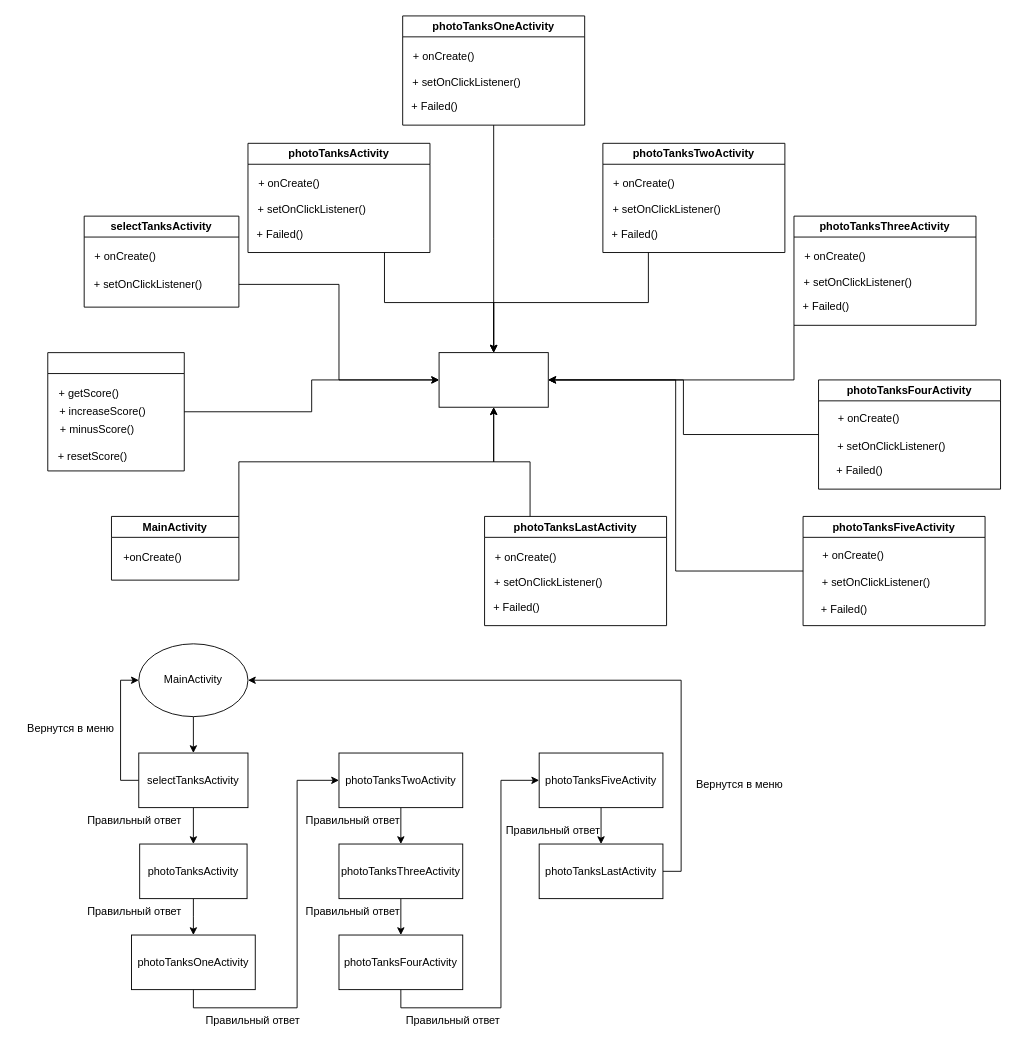
Some shapes in this 1016 by 1050 pixel diagram are drawn without their labels. Here are the shapes that lost their labels. From the top down, the box of each, then its label:
(438, 352, 548, 407): AppCompatActivity
(47, 352, 184, 471): ScoreManager
